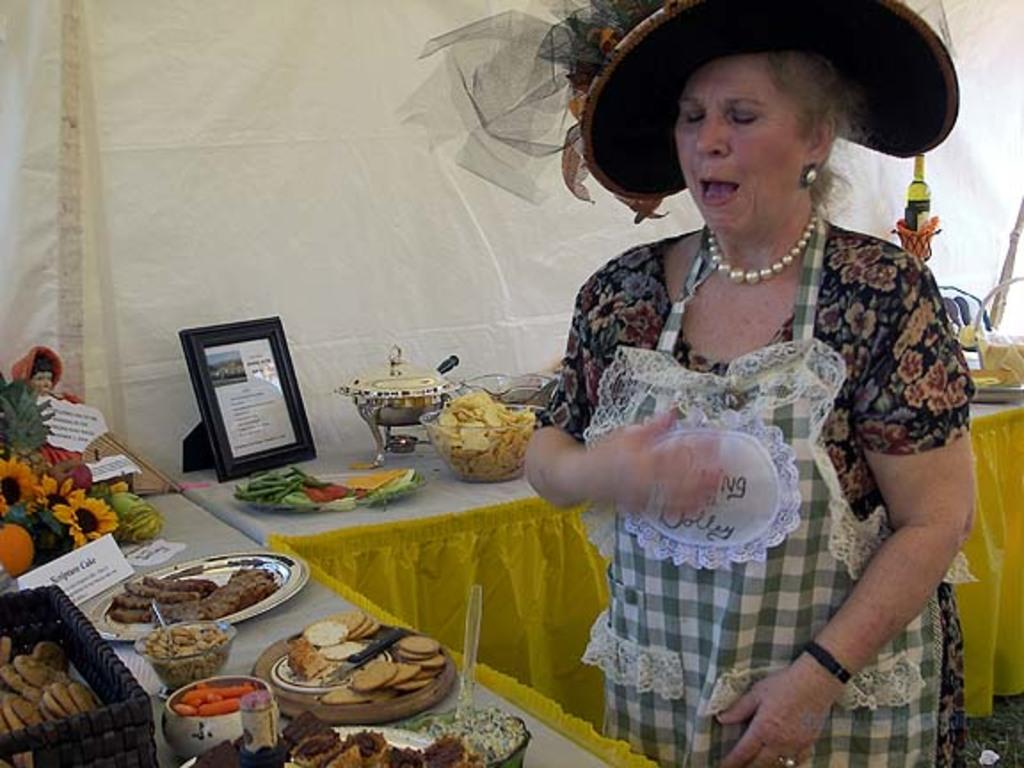Hat: (394, 0, 959, 225)
